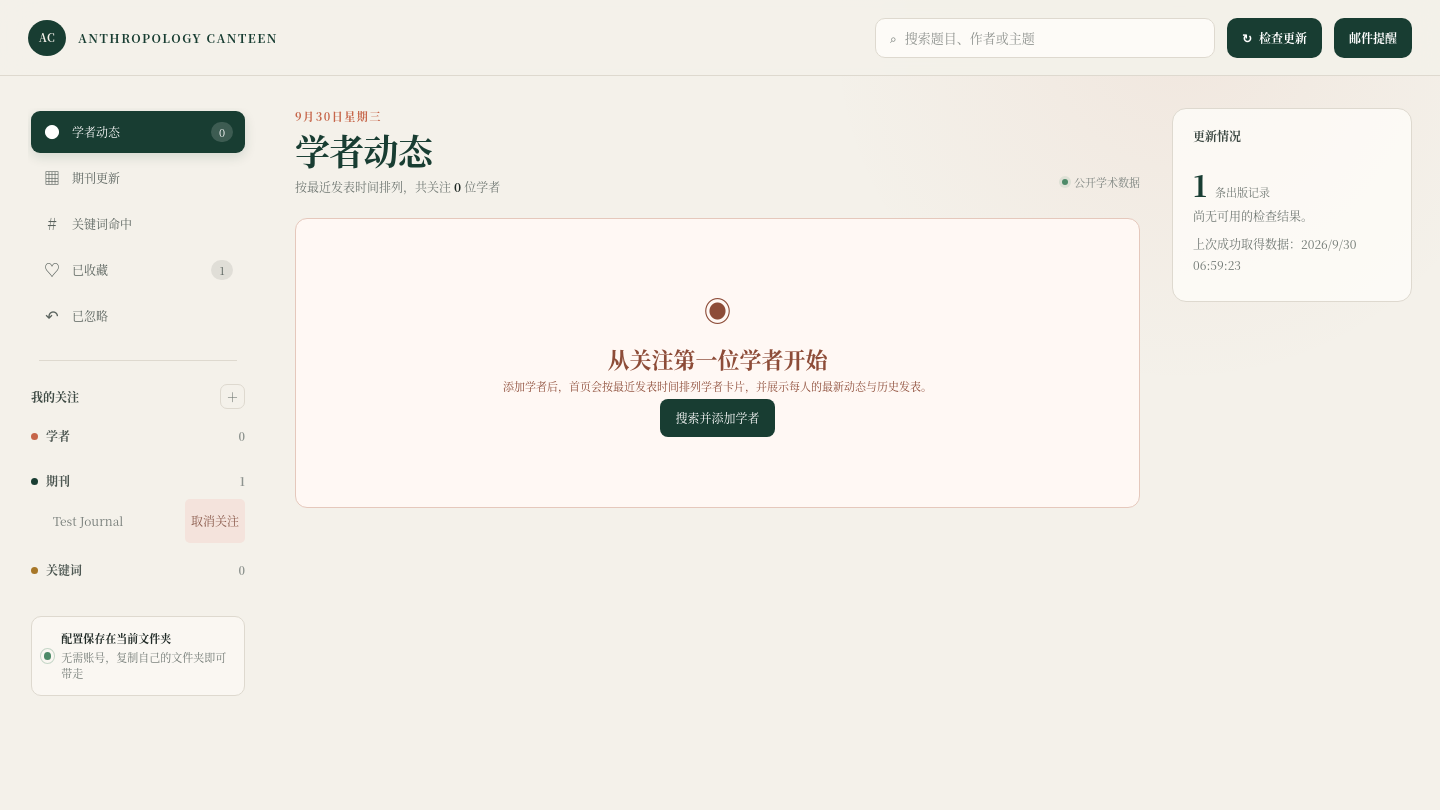
Test case: article recovery › archives an ignored article and offers immediate undo
The width and height of the screenshot is (1440, 810).
Click the button "▦ 期刊更新": (138, 178) [31,157,245,199]
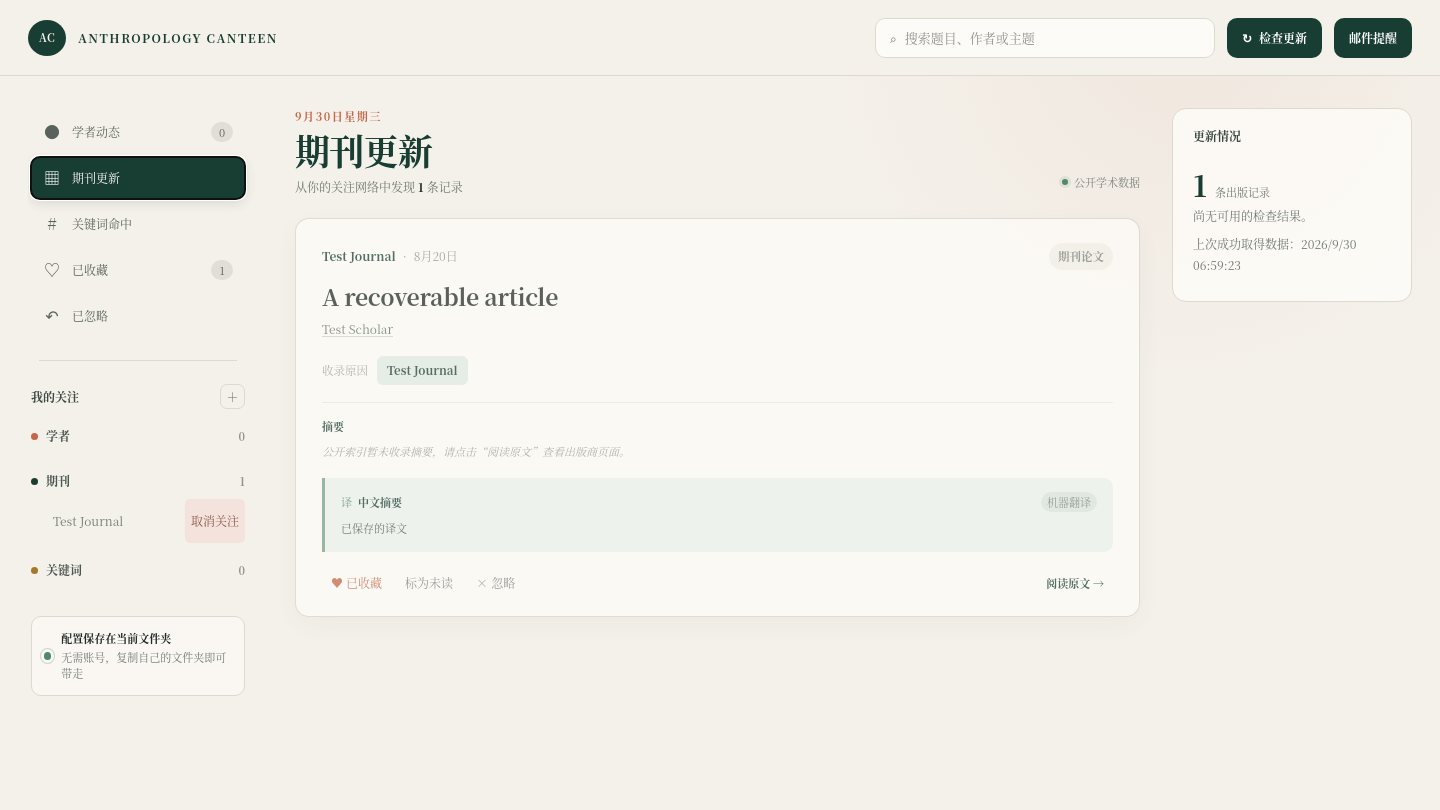
Check: the heading "A recoverable article" is shown, box [322,280,558,313]
Click the button "× 忽略": (496, 583) [467,568,524,598]
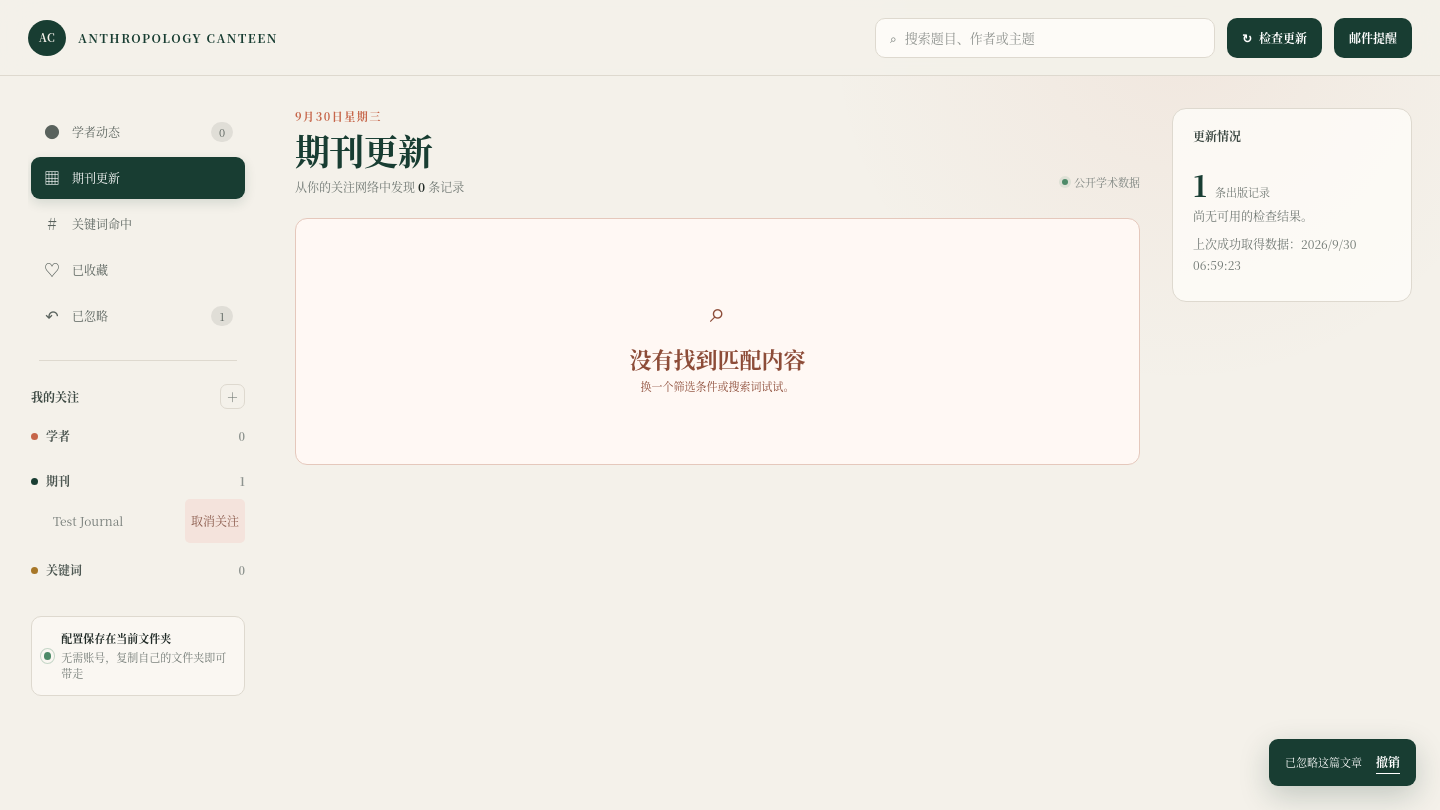
Check: the link "A recoverable article" is gone
Click the button "撤销": (1388, 762) [1376,751,1400,774]
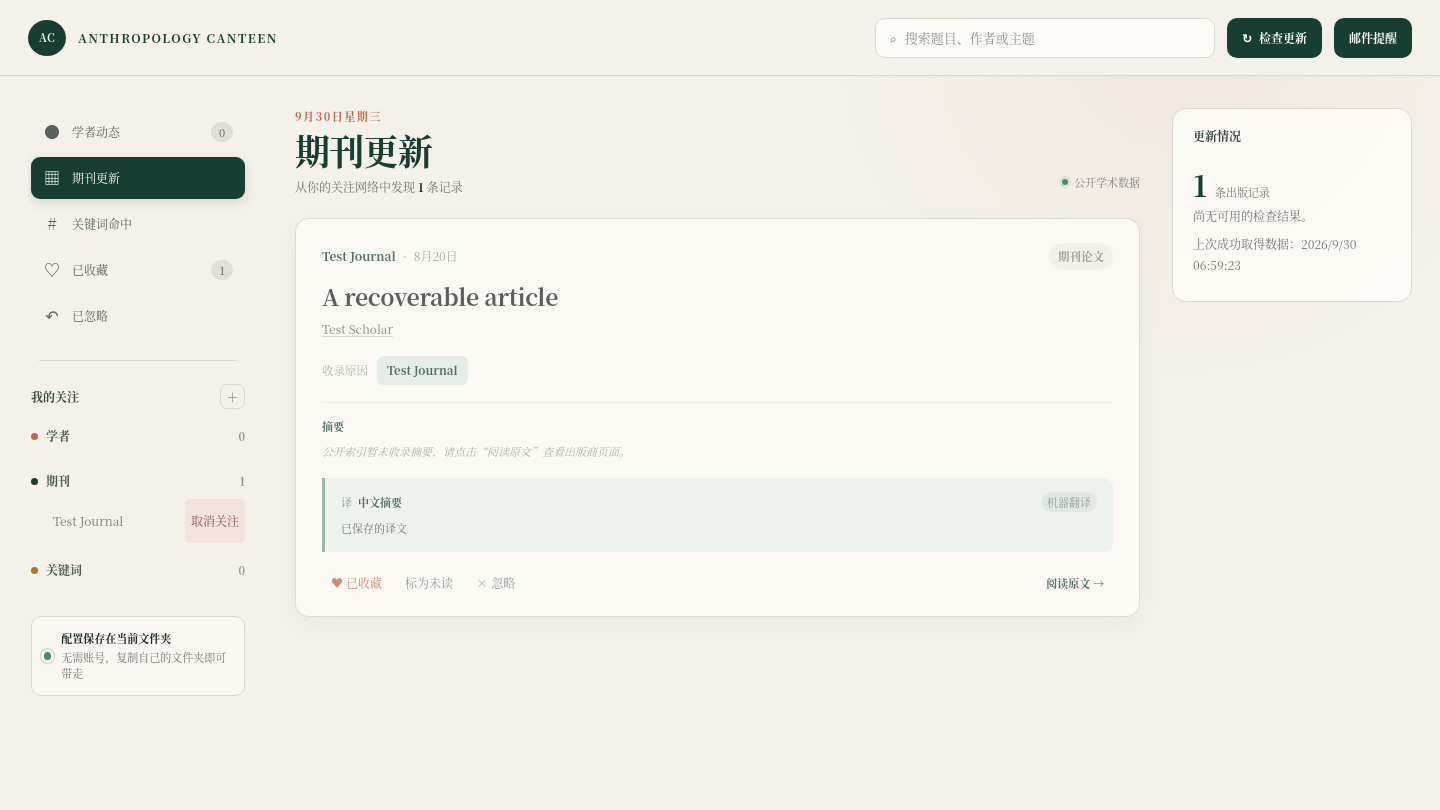
Check: the heading "A recoverable article" is shown, box [322,280,558,313]
